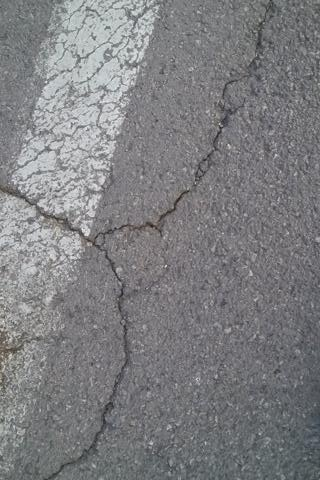A: (4, 189, 133, 480), (136, 1, 279, 234)
